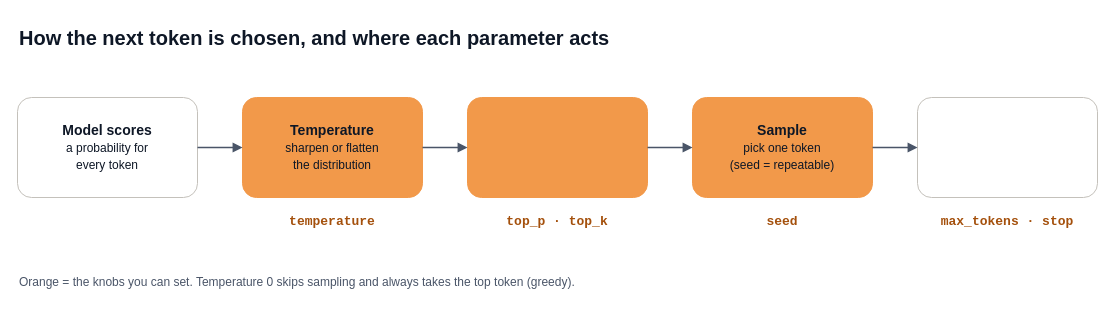
The diagram is 1115 pixels wide and 314 high, and some of its shapes have lost their labels. Here are the shapes that lost their labels. From the top down, the centre of each, then its label:
At (557,147): "Top-p / top-k cut off the unlikely tail".
At (1007,147): "Next token append and repeat until a stop".
